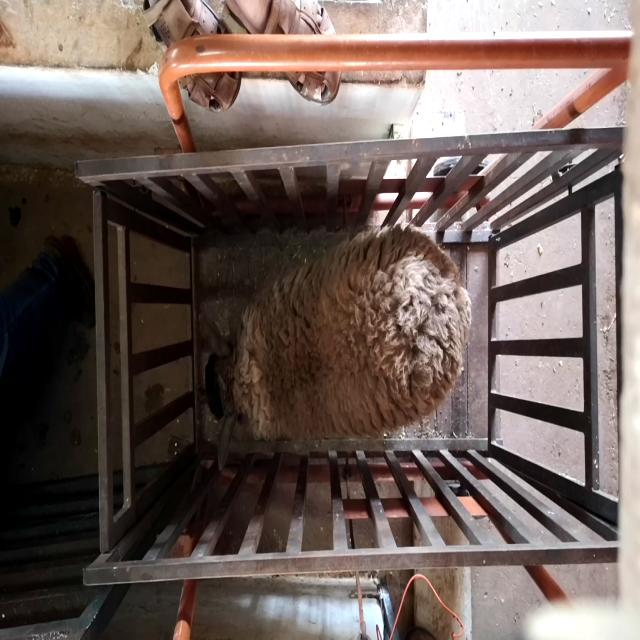sheep: (199, 225, 473, 470)
